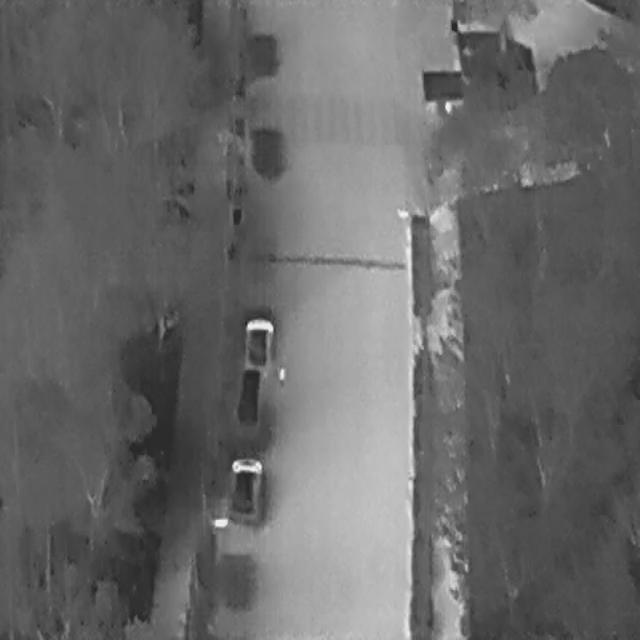Car: (227, 452, 263, 522), (234, 363, 262, 432), (243, 314, 273, 375)
Person: (276, 365, 284, 387)
